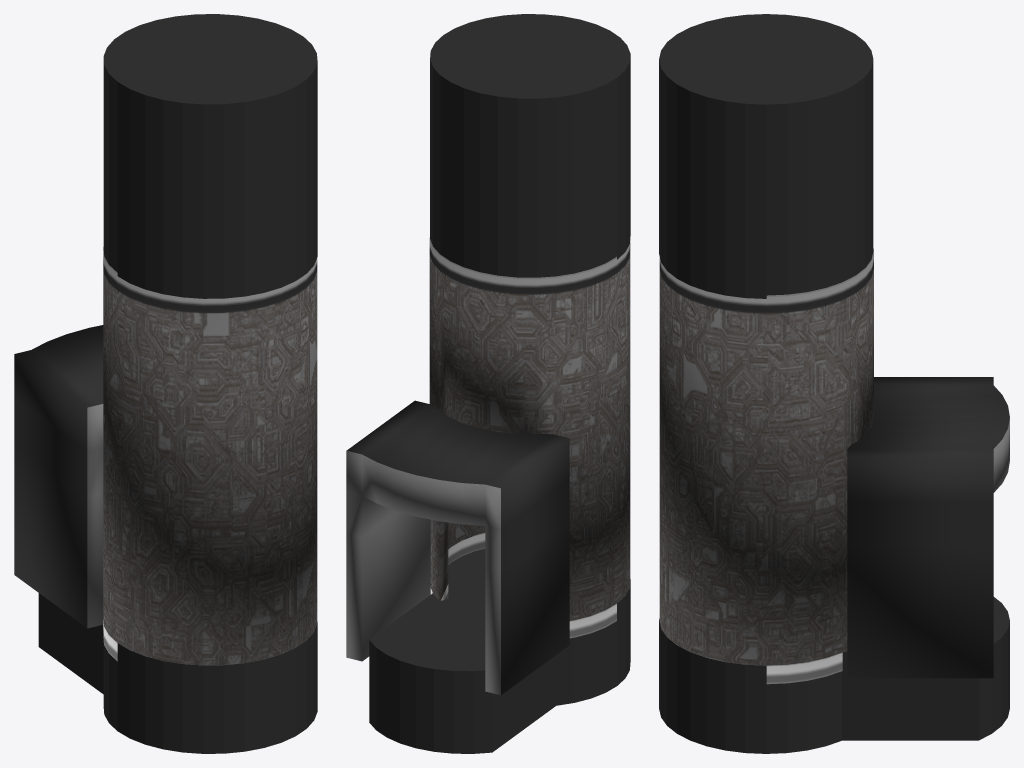
Rendered from ElevatorInner.glb.
3 views of the same model, side by side, from view 1: azimuth 30°, elevation 25°; view 2: azimuth 150°, elevation 25°; view 3: azimuth 270°, elevation 25° (orthographic). The views are drawn at different scales.
Parts seen in each view (by area): view 1: Cylinder, Ceiling, Cylinder.001, Floor; view 2: Ceiling, Cylinder, Cylinder.001, Floor; view 3: Cylinder, Ceiling, Cylinder.001, Floor.
Part boxes in pixels (x1,y1,x2,y2): Cylinder: (103, 247, 317, 665); Ceiling: (103, 14, 317, 298); Cylinder.001: (14, 325, 103, 628); Floor: (38, 593, 317, 753); Ceiling: (430, 14, 630, 277); Cylinder: (429, 238, 630, 638); Cylinder.001: (346, 400, 569, 695); Floor: (369, 549, 630, 753); Cylinder: (659, 248, 873, 684); Ceiling: (659, 14, 873, 298); Cylinder.001: (847, 377, 1009, 678); Floor: (659, 597, 1009, 753).
Size of the model in its own units: 4.4 by 14.7 by 7.2.
Materials: 3 (2 with a texture image).
